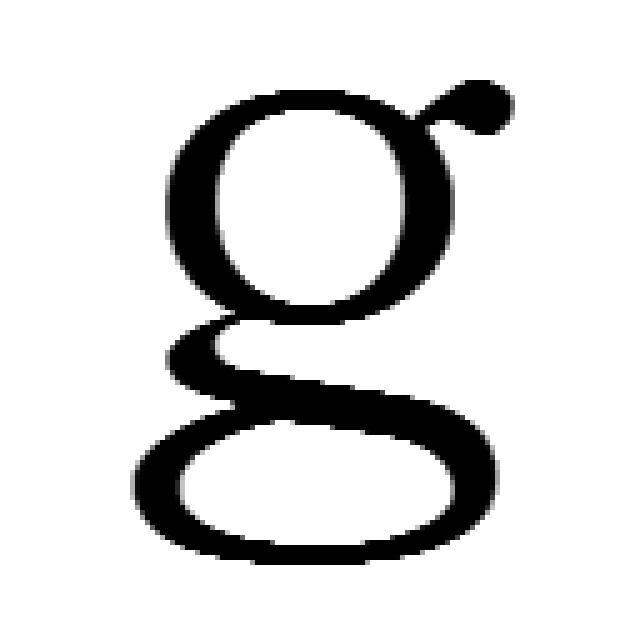G: (128, 75, 515, 562)
